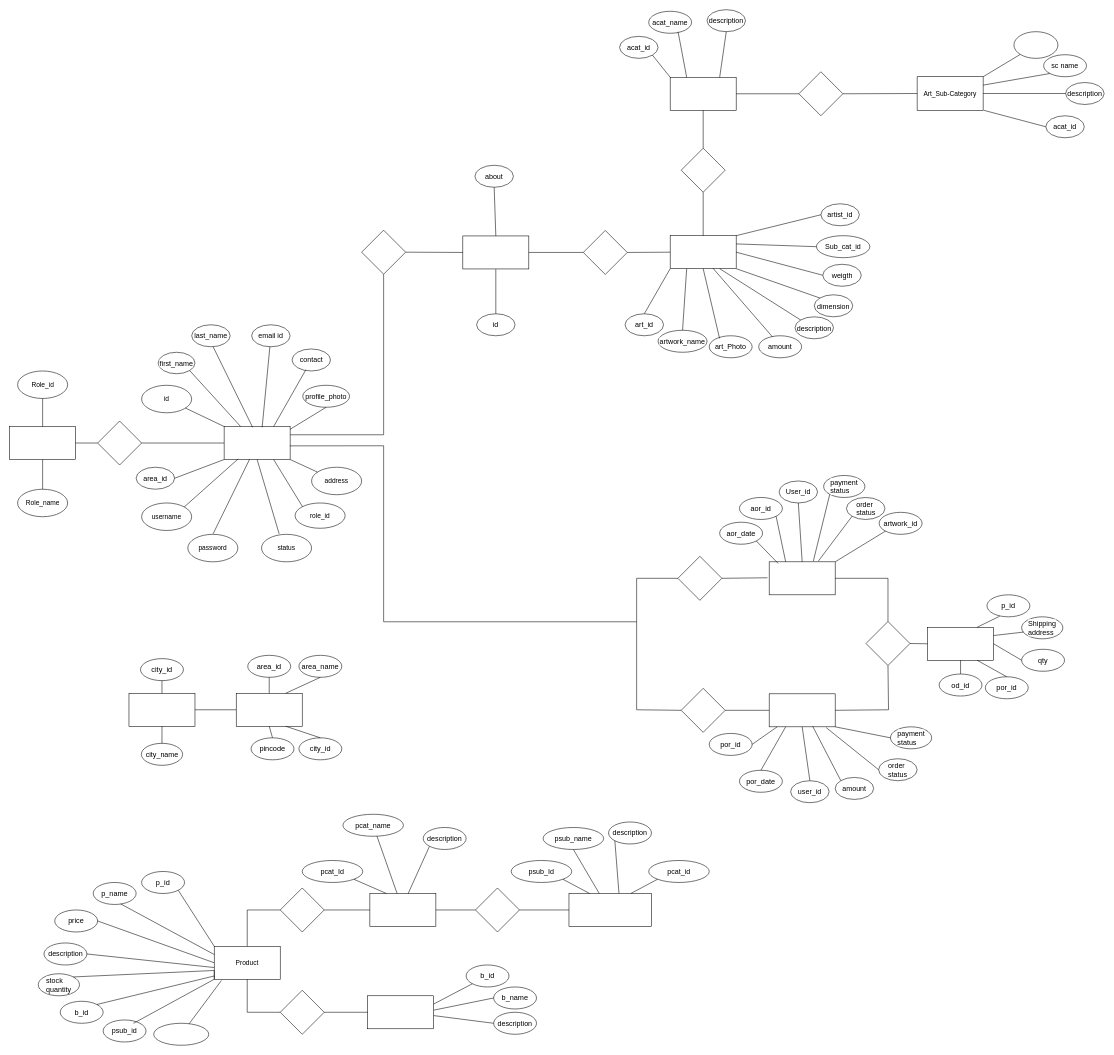
Some shapes in this 1114 by 1055 pixel diagram are drawn without their labels. Here are the shapes that lost their labels. From the top down, the box of each, then its label:
(1013, 31, 1058, 58): sc_id
(670, 77, 736, 110): Art_Categories
(462, 235, 529, 269): Artist
(670, 235, 736, 269): Art_Work
(9, 426, 76, 460): Roles
(224, 426, 290, 460): user
(769, 561, 835, 595): Art_orders
(927, 627, 994, 660): Order_details
(128, 693, 195, 726): city
(236, 693, 302, 726): area
(769, 693, 835, 727): Product_orders
(369, 893, 436, 926): Product_Categories
(568, 893, 651, 926): Product_sub-categories
(367, 995, 434, 1029): brand
(153, 1023, 209, 1045): product_img
